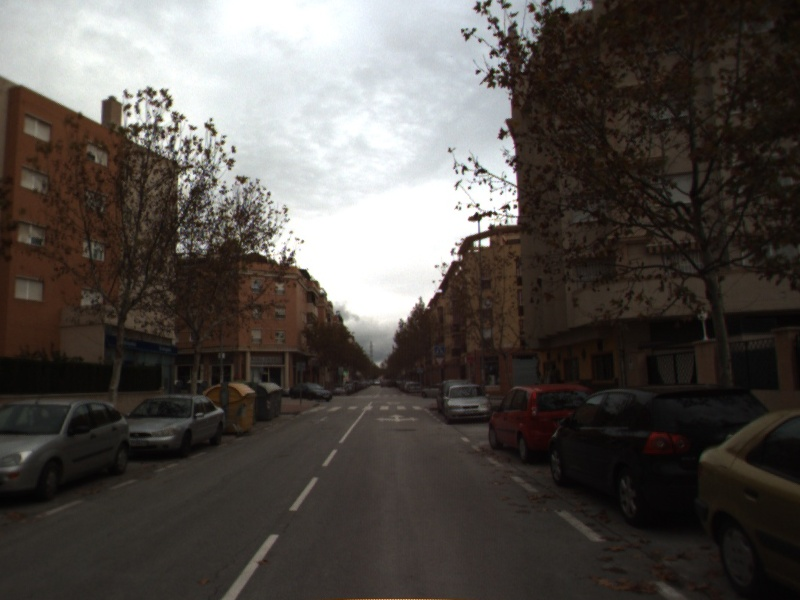STRAIGHT_LEFT_RIGHT: (374, 411, 421, 425)
